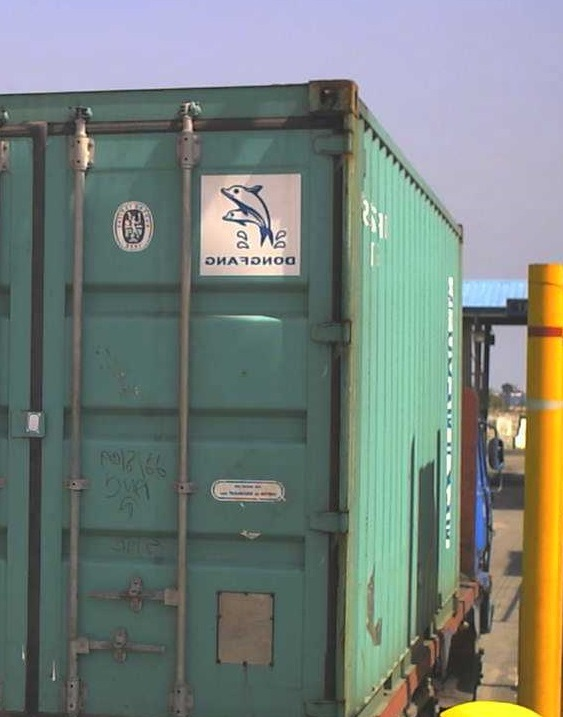container_door: (3, 76, 356, 715)
